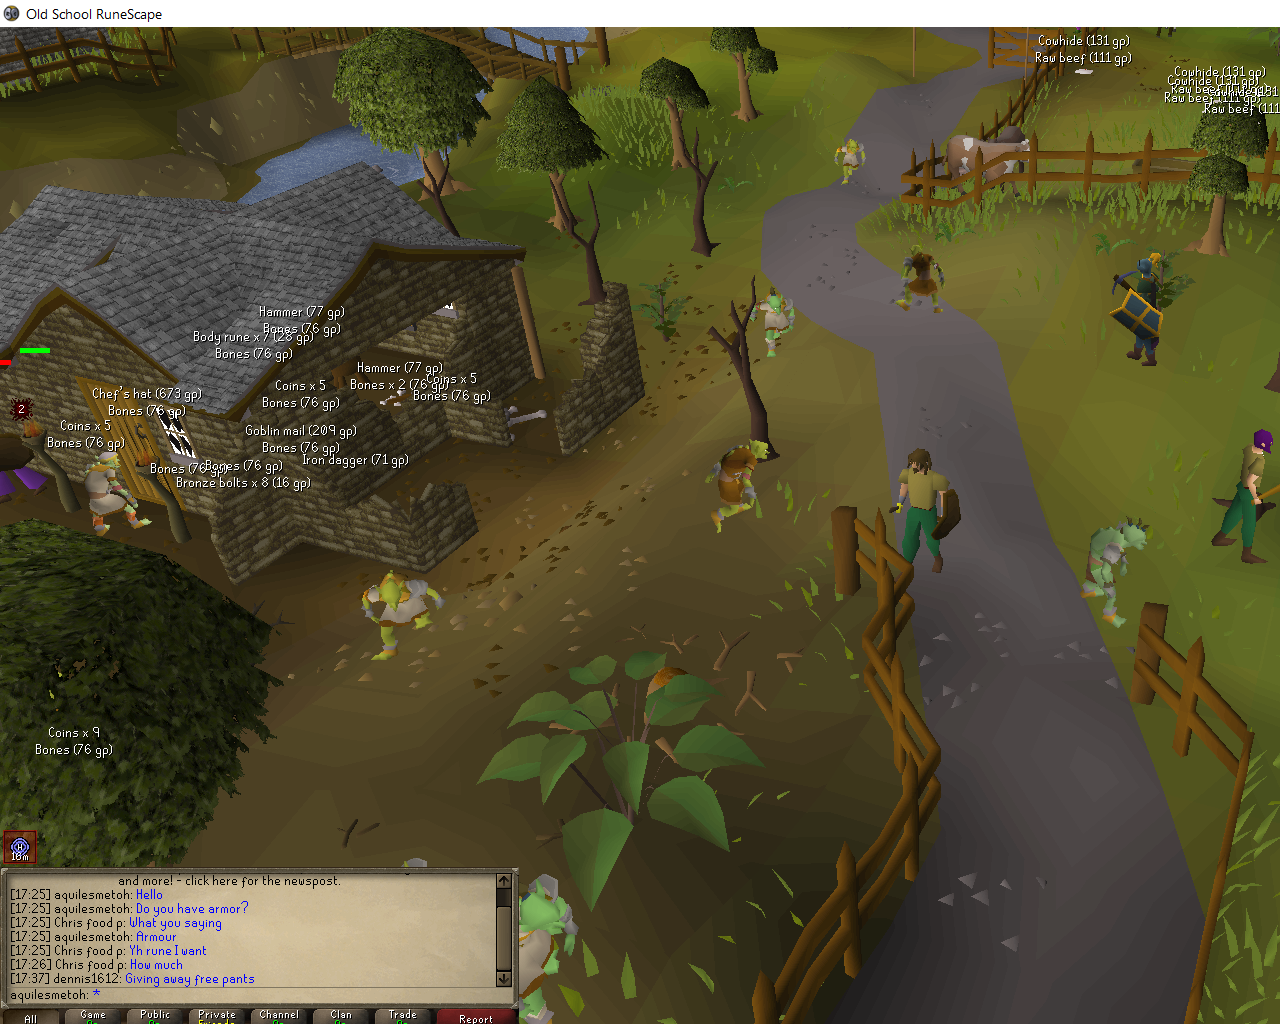Goblin: (1078, 513, 1153, 631), (360, 567, 446, 659), (75, 446, 153, 538), (706, 437, 769, 537), (747, 289, 799, 360), (832, 138, 869, 187)
